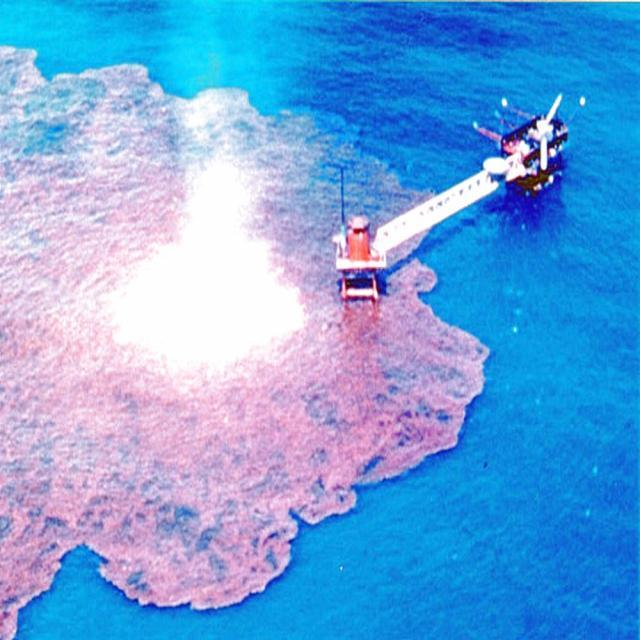truecolor: (0, 46, 486, 639)
